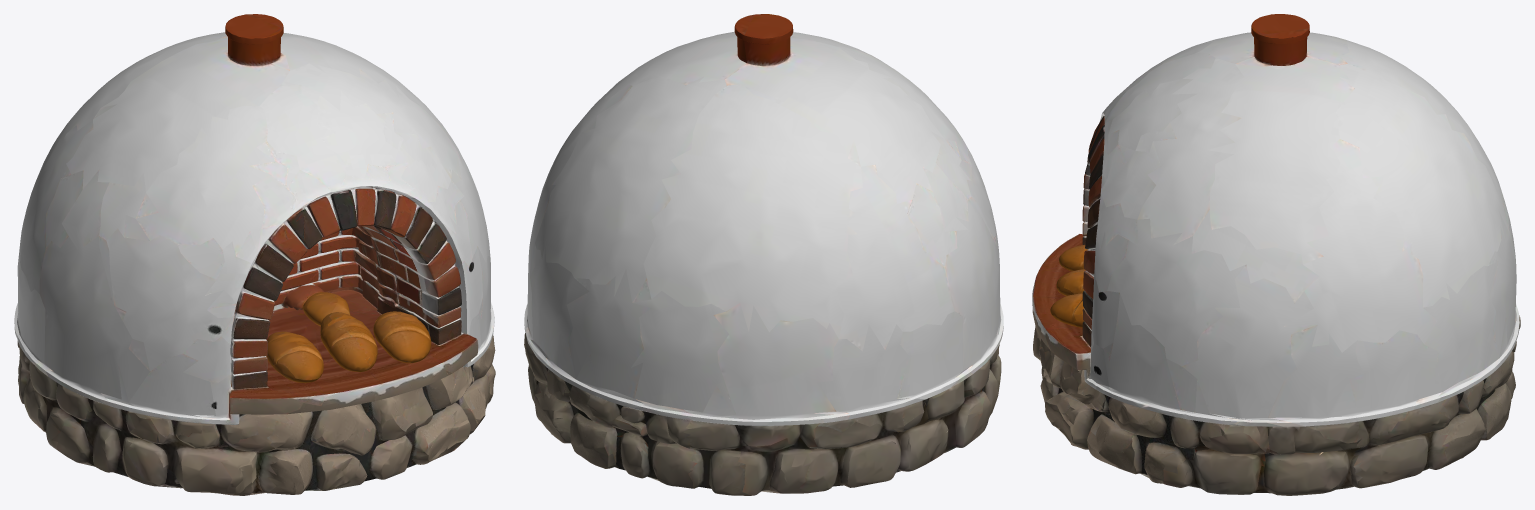
Rendered from oven.glb.
3 views of the same model, side by side, from view 1: azimuth 30°, elevation 25°; view 2: azimuth 150°, elevation 25°; view 3: azimuth 270°, elevation 25° (orthographic).
Bounding box in the file's own units: 1.87 × 1.6 × 1.9.
1 material, 1 textured.
